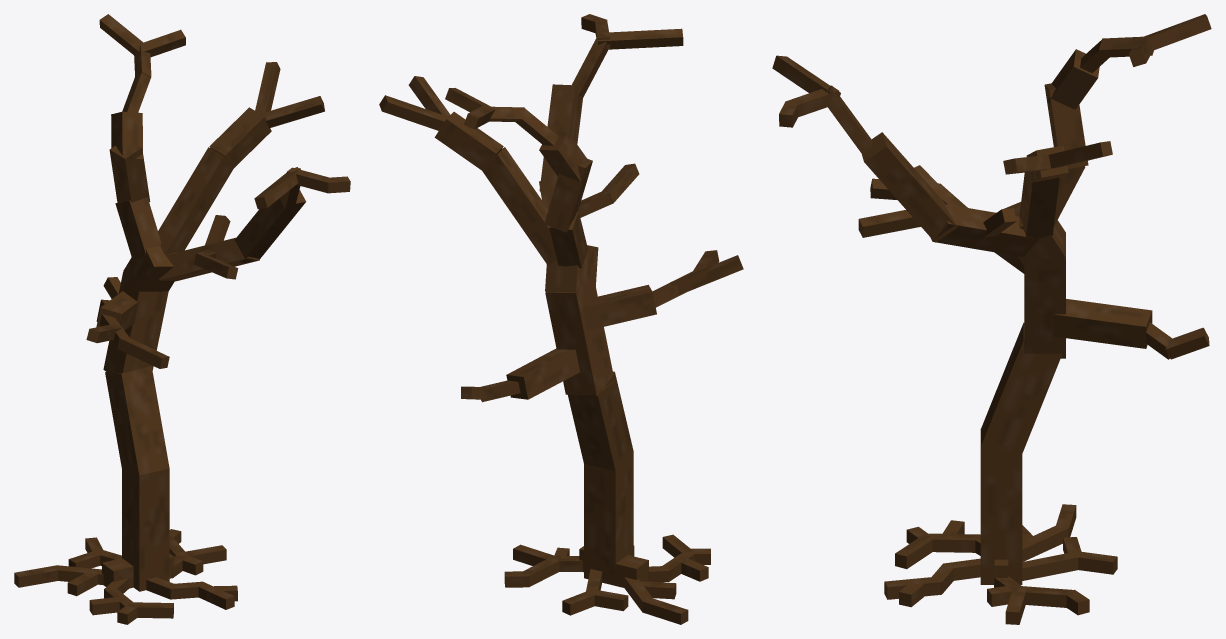
The model's file is Tree.fbx.
The picture shows the model from 3 angles, left to right: view 1: azimuth 30°, elevation 25°; view 2: azimuth 150°, elevation 25°; view 3: azimuth 270°, elevation 25°; orthographic projection. The views are drawn at different scales.
Parts seen in each view (by area): view 1: cube, cube_1, cube_39, cube_2, cube_27, cube_40, cube_31, cube_3, cube_32, cube_26, cube_34, cube_41 (+20 smaller); view 2: cube, cube_2, cube_1, cube_39, cube_46, cube_49, cube_40, cube_27, cube_32, cube_26, cube_29, cube_34 (+17 smaller); view 3: cube, cube_1, cube_27, cube_2, cube_46, cube_3, cube_39, cube_32, cube_34, cube_26, cube_52, cube_8 (+17 smaller).
Boxes of the visible parts, <box> form: cube: <box>122,463,169,591</box>; cube_1: <box>105,366,169,475</box>; cube_39: <box>158,147,233,254</box>; cube_2: <box>103,272,168,382</box>; cube_27: <box>235,190,306,263</box>; cube_40: <box>209,107,271,169</box>; cube_31: <box>115,197,160,258</box>; cube_3: <box>159,237,259,281</box>; cube_32: <box>109,145,150,202</box>; cube_26: <box>123,246,176,296</box>; cube_34: <box>111,111,142,159</box>; cube_41: <box>264,96,324,128</box>; cube: <box>584,451,633,585</box>; cube_2: <box>545,280,614,394</box>; cube_1: <box>568,371,633,474</box>; cube_39: <box>479,147,556,265</box>; cube_46: <box>506,348,579,399</box>; cube_49: <box>583,284,656,330</box>; cube_40: <box>434,112,503,170</box>; cube_27: <box>539,84,582,191</box>; cube_32: <box>544,158,592,232</box>; cube_26: <box>545,245,598,294</box>; cube_29: <box>597,28,683,49</box>; cube_34: <box>539,131,589,181</box>; cube: <box>980,429,1022,584</box>; cube_1: <box>981,322,1062,459</box>; cube_27: <box>861,132,957,242</box>; cube_2: <box>1024,258,1065,358</box>; cube_46: <box>1053,299,1152,348</box>; cube_3: <box>930,204,1039,256</box>; cube_39: <box>1019,155,1059,238</box>; cube_32: <box>1044,83,1088,168</box>; cube_34: <box>1048,49,1099,109</box>; cube_26: <box>1004,202,1065,265</box>; cube_52: <box>858,210,920,237</box>; cube_8: <box>1022,551,1078,580</box>.
Bounding box in the file's own units: 88.71 × 146 × 98.76.
Materials: 1 (1 with a texture image).
